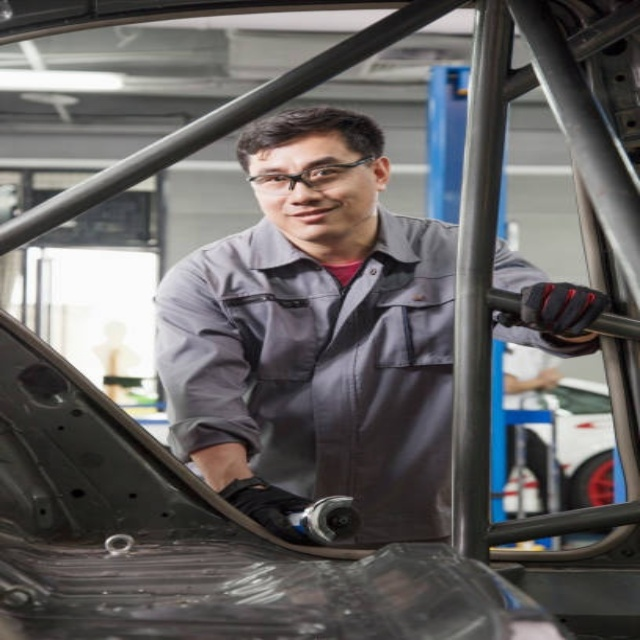Gafas: (247, 155, 373, 194)
Guantes: (217, 476, 323, 544), (517, 281, 610, 337)
Sin_mascara: (279, 201, 347, 230)
